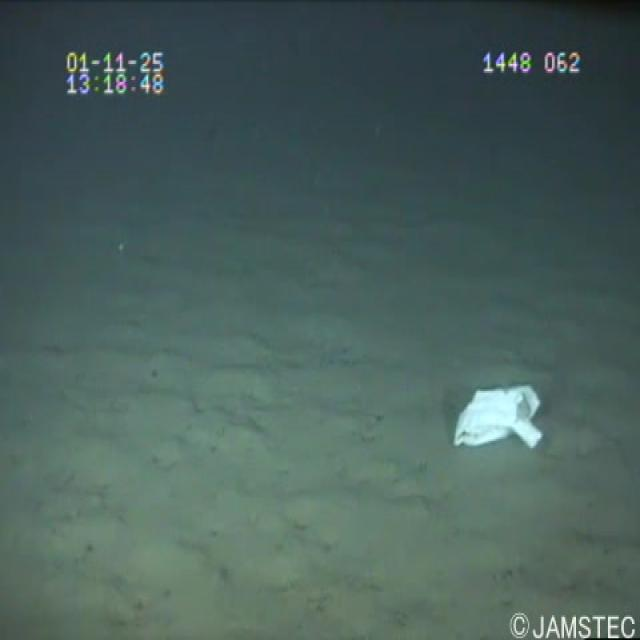plastic: (442, 368, 558, 473)
